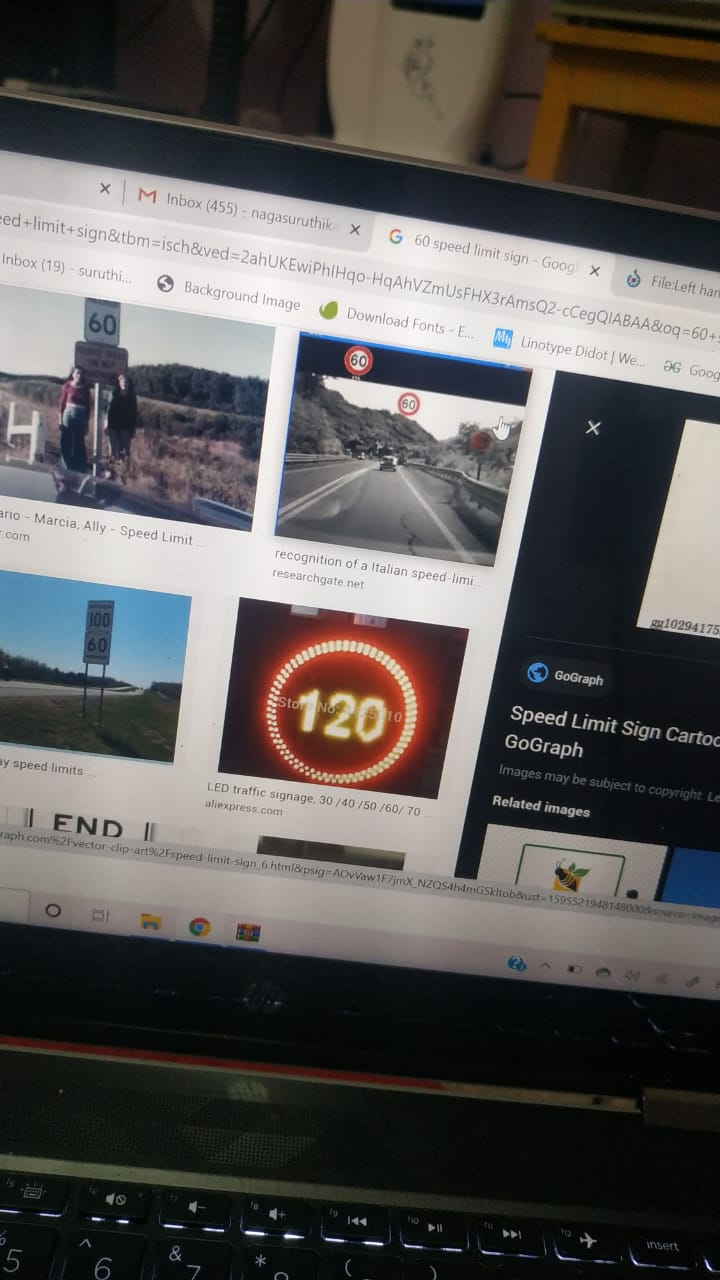SPEED LIMIT (60 KM/H): (68, 296, 122, 341), (341, 348, 378, 385), (78, 625, 110, 656), (398, 394, 425, 419)
